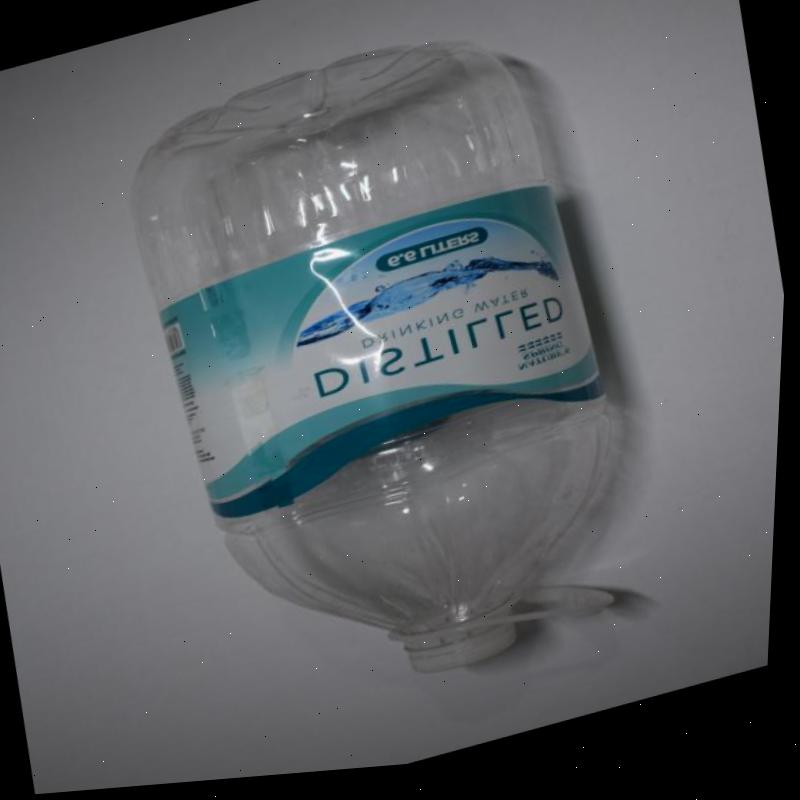botella: (92, 0, 681, 747)
